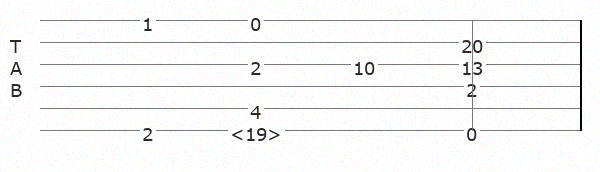0: (250, 12, 265, 29), (466, 122, 481, 139)
1: (142, 12, 157, 29)
10: (353, 56, 379, 73)
13: (461, 56, 487, 73)
2: (142, 122, 157, 139), (250, 56, 265, 73), (466, 78, 481, 95)
20: (461, 34, 487, 51)
4: (250, 100, 265, 117)
harmonic: (230, 122, 286, 139)
